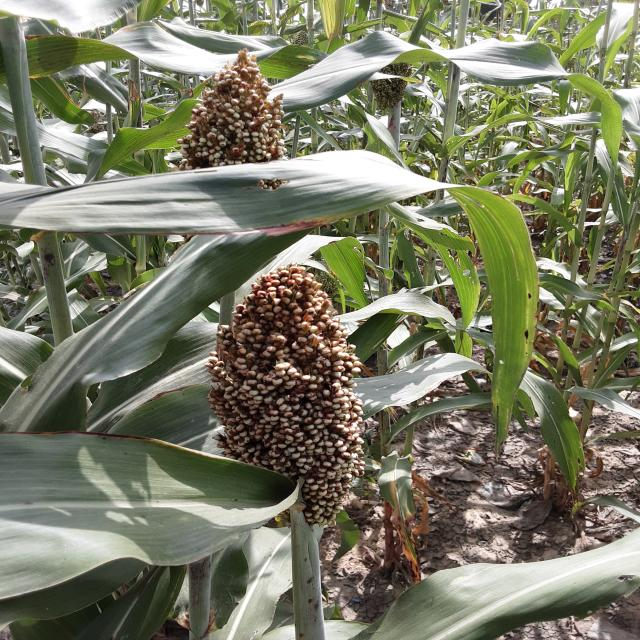UnripeSorghum: (201, 247, 379, 537), (154, 45, 324, 192)
